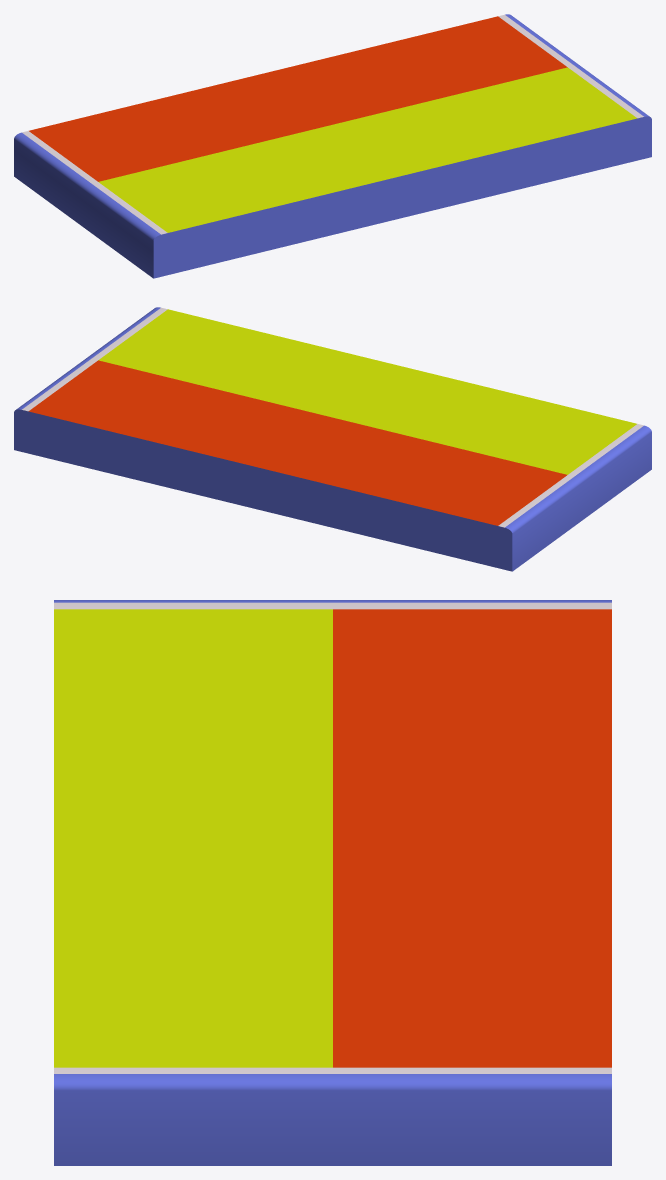
The model's file is Genis_Yol_Duz.fbx.
The picture shows the model from 3 angles, top to bottom: view 1: azimuth 30°, elevation 25°; view 2: azimuth 150°, elevation 25°; view 3: azimuth 270°, elevation 25°; orthographic projection. The views are drawn at different scales.
Parts seen in each view (by area): view 1: Genis_Yol_Duz; view 2: Genis_Yol_Duz; view 3: Genis_Yol_Duz.
Part boxes in pixels (<box>): Genis_Yol_Duz: <box>14,14,651,278</box>; Genis_Yol_Duz: <box>14,307,651,571</box>; Genis_Yol_Duz: <box>54,600,611,1165</box>.
Size of the model in its own units: 1856 by 150 by 900.
